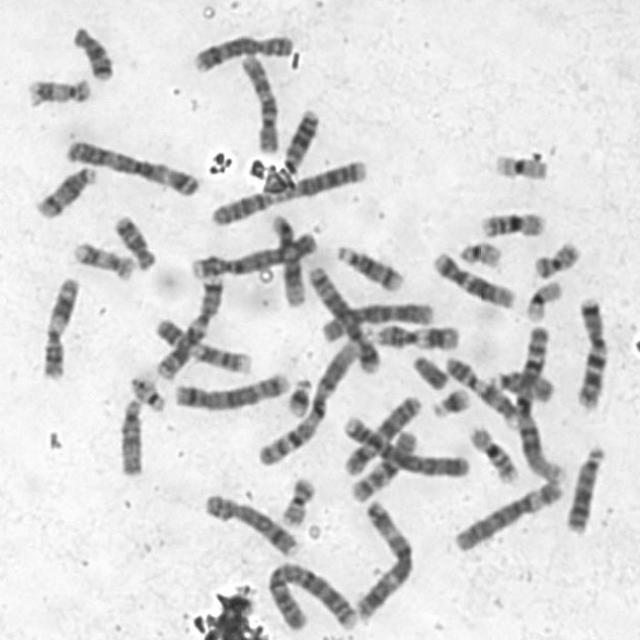A1: (256, 322, 379, 468), (515, 325, 568, 486)
A2: (210, 157, 368, 227), (268, 561, 356, 632)
A3: (352, 498, 413, 627), (64, 138, 199, 196)
B4: (342, 416, 471, 478), (189, 230, 317, 280)
B5: (305, 263, 381, 376), (173, 371, 292, 412)
C10: (351, 430, 418, 502), (239, 52, 280, 155)
C11: (42, 276, 80, 380), (378, 324, 460, 353)
C12: (154, 321, 252, 379), (271, 215, 308, 308)
C6: (455, 479, 565, 551), (322, 301, 434, 342)
C7: (155, 273, 225, 379), (576, 297, 608, 410)
C8: (204, 492, 300, 558), (194, 34, 294, 74)
C9: (444, 355, 518, 425), (432, 251, 516, 308)
D13: (565, 444, 607, 534), (282, 108, 320, 176)
D14: (334, 244, 404, 292), (38, 165, 97, 218)
D15: (117, 389, 146, 475), (485, 369, 556, 404)
E16: (469, 425, 520, 485), (479, 211, 545, 239)
E17: (72, 240, 136, 280), (28, 78, 91, 108)
E18: (113, 214, 156, 272), (72, 25, 114, 82)
F19: (525, 279, 563, 323), (494, 154, 549, 182)
F20: (534, 242, 580, 278), (281, 478, 315, 526)
G21: (431, 387, 472, 419), (285, 378, 313, 419)
G22: (129, 374, 168, 414), (459, 240, 503, 268)
X: (344, 394, 424, 477)
Y: (411, 354, 450, 390)
